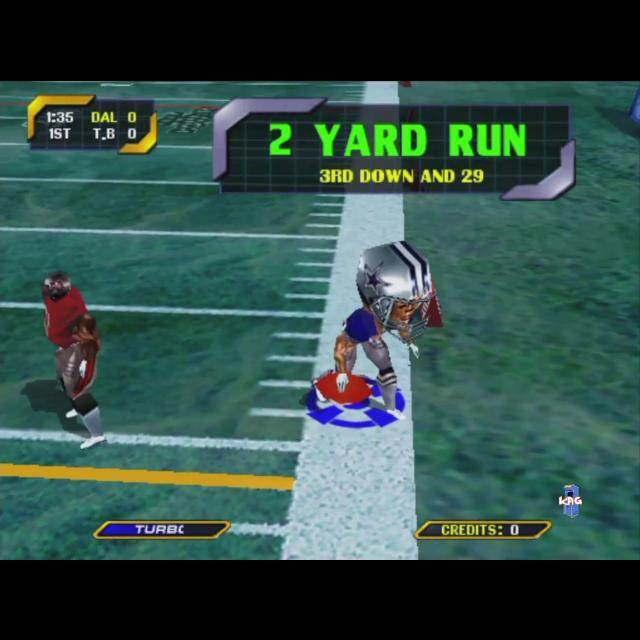player: (313, 238, 445, 420), (42, 270, 108, 448)
